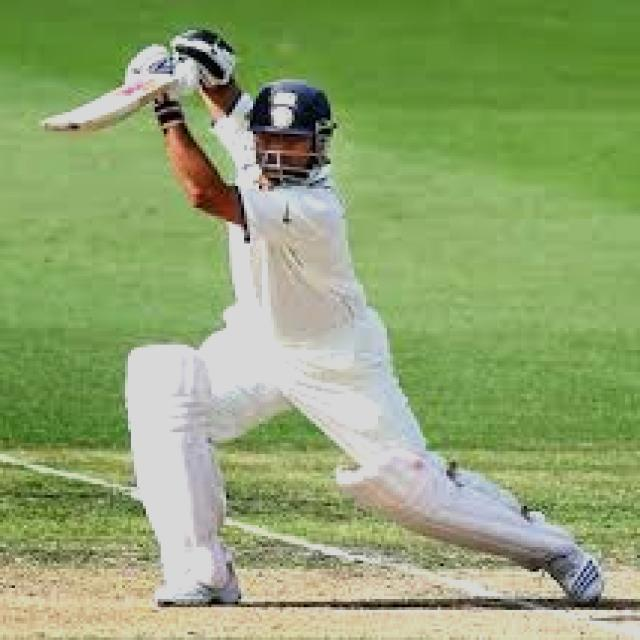bat: (25, 68, 203, 153)
toe: (38, 118, 88, 137)
